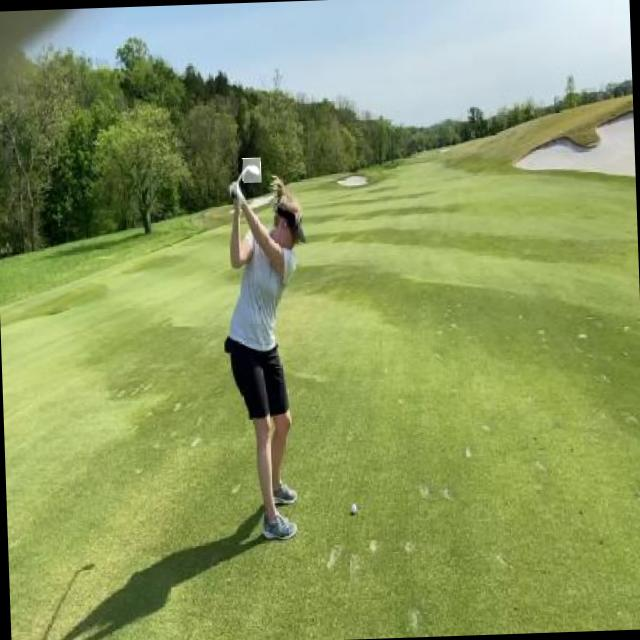club head: (242, 157, 261, 183)
